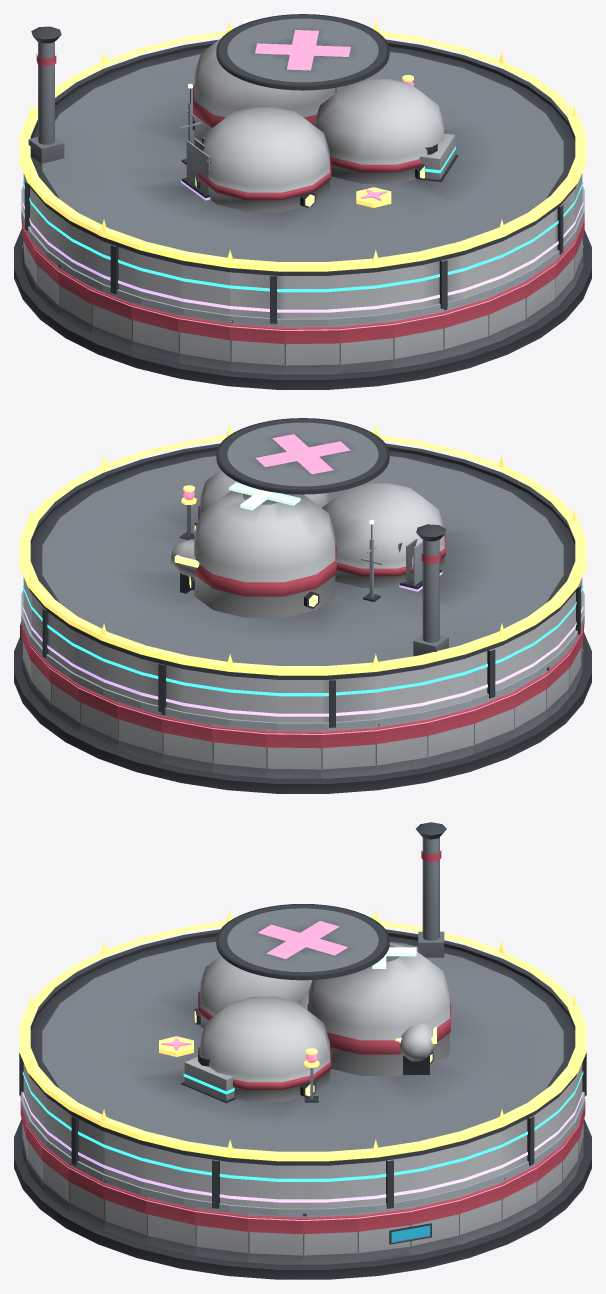
The model's file is bio_lab_m.glb.
The picture shows the model from 3 angles, top to bottom: view 1: azimuth 30°, elevation 25°; view 2: azimuth 150°, elevation 25°; view 3: azimuth 270°, elevation 25°; orthographic projection.
Visible parts, largest first — view 1: Roof, Base, Wall_21, Wall_20, Wall_22, Wall_19, Wall_23, Upper_20, Upper_21, Wall_18, Upper_22, Upper_23 (+31 smaller); view 2: Roof, Base, Wall_10, Wall_11, Wall_09, Wall_12, Wall_08, Upper_11, Upper_10, Wall_13, Upper_09, Upper_08 (+29 smaller); view 3: Roof, Base, Wall_00, Wall_31, Wall_30, Wall_29, Wall_01, Upper_00, Upper_31, Upper_01, Upper_30, Wall_28 (+24 smaller).
Part boxes in pixels (box(x1,y1,x2,y2)): Roof: box(28, 14, 575, 271); Base: box(14, 228, 591, 389); Wall_21: box(284, 325, 339, 374); Wall_20: box(230, 320, 284, 374); Wall_22: box(339, 319, 393, 373); Wall_19: box(178, 314, 230, 370); Wall_23: box(393, 310, 444, 368); Upper_20: box(230, 268, 284, 323); Upper_21: box(284, 271, 339, 318); Wall_18: box(131, 302, 178, 362); Upper_22: box(339, 266, 393, 317); Upper_23: box(393, 256, 444, 312); Roof: box(30, 418, 575, 675); Base: box(14, 632, 591, 793); Wall_10: box(266, 729, 321, 778); Wall_11: box(321, 726, 375, 778); Wall_09: box(212, 723, 266, 777); Wall_12: box(375, 718, 427, 774); Wall_08: box(161, 712, 212, 772); Upper_11: box(321, 672, 375, 727); Upper_10: box(266, 675, 321, 722); Wall_13: box(427, 706, 474, 766); Upper_09: box(212, 670, 266, 721); Upper_08: box(161, 660, 212, 716); Roof: box(30, 822, 575, 1161); Base: box(14, 1119, 591, 1279); Wall_00: box(303, 1213, 357, 1264); Wall_31: box(248, 1213, 302, 1264); Wall_30: box(195, 1207, 248, 1262); Wall_29: box(146, 1196, 195, 1255); Wall_01: box(357, 1207, 410, 1262); Upper_00: box(303, 1159, 357, 1208); Upper_31: box(248, 1159, 302, 1208); Upper_01: box(357, 1153, 410, 1208); Upper_30: box(195, 1153, 248, 1208); Wall_28: box(103, 1180, 146, 1244).
Bounding box in the file's own units: 13.25 × 6.1 × 13.25.
